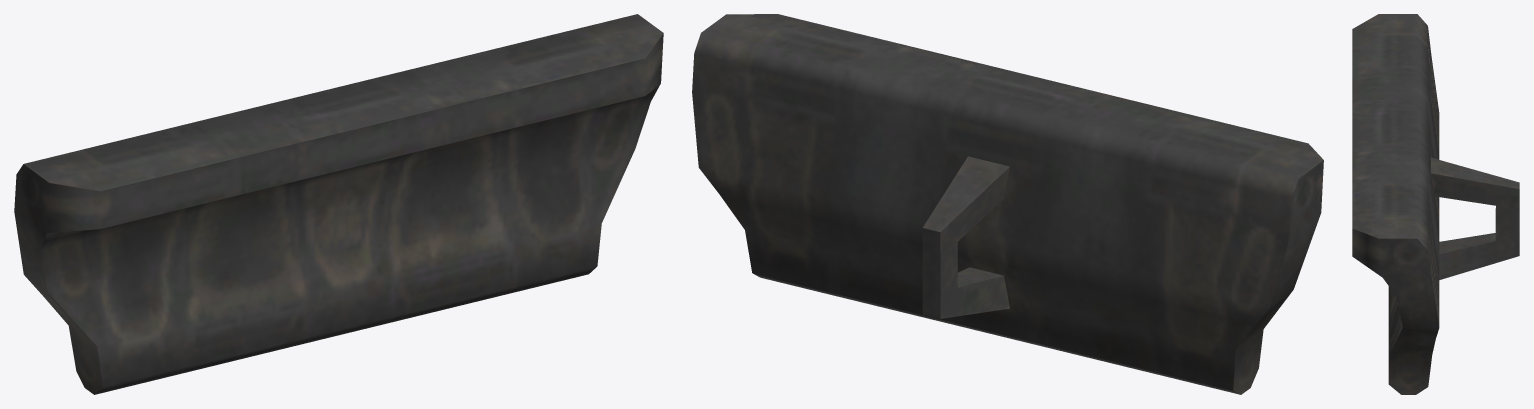
Rendered from g40_track.glb.
3 renders of one model, left to right at view 1: azimuth 30°, elevation 25°; view 2: azimuth 150°, elevation 25°; view 3: azimuth 270°, elevation 25°, orthographic. The views are drawn at different scales.
Visible parts, largest first — view 1: set_0_group_0; view 2: set_0_group_0; view 3: set_0_group_0.
Boxes of the visible parts, x1,y1,x2,y2 form: set_0_group_0: (14,14,663,394); set_0_group_0: (692,14,1323,394); set_0_group_0: (1352,14,1519,394).
Size of the model in its own units: 0.3974 by 0.147 by 0.1252.
1 material, 1 textured.
